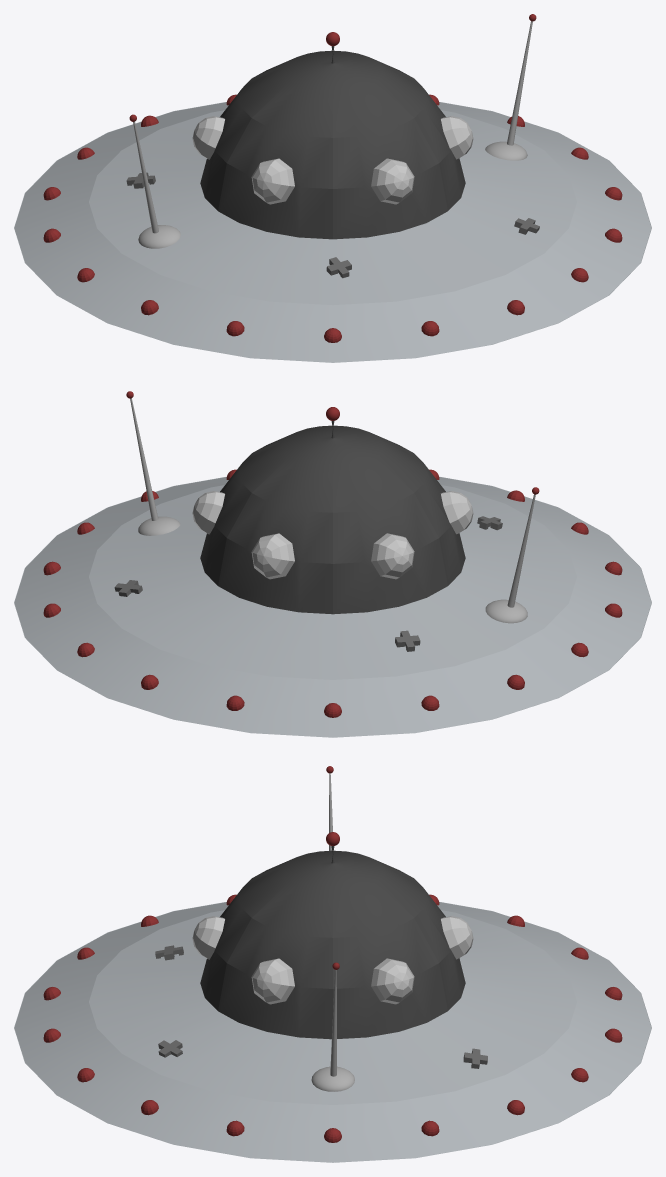
The model's file is ufo_lander.fbx.
3 renders of one model, top to bottom at view 1: azimuth 30°, elevation 25°; view 2: azimuth 150°, elevation 25°; view 3: azimuth 270°, elevation 25°, orthographic.
Parts seen in each view (by area): view 1: pasted__pSphere50; view 2: pasted__pSphere50; view 3: pasted__pSphere50.
Boxes of the visible parts, left/top/right/bottom form: pasted__pSphere50: left=14, top=14, right=651, bottom=362; pasted__pSphere50: left=14, top=391, right=651, bottom=737; pasted__pSphere50: left=14, top=766, right=651, bottom=1162.
Size of the model in its own units: 18.33 by 8.67 by 18.33.
